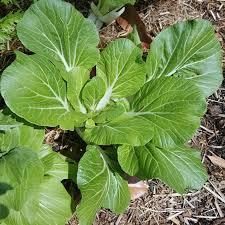Healthy-Pechay: (7, 6, 225, 225)
